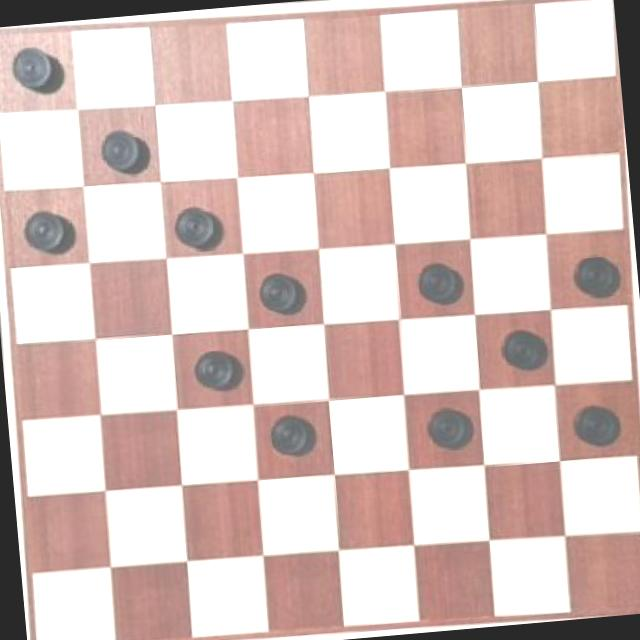BOARD: (0, 0, 640, 640)
black: (396, 246, 472, 318), (0, 29, 66, 108), (86, 112, 152, 184), (244, 258, 318, 322), (166, 194, 237, 256), (256, 403, 323, 462), (564, 392, 628, 452), (489, 318, 550, 378), (184, 338, 243, 396), (562, 247, 622, 300), (22, 204, 74, 258), (428, 402, 477, 454)
